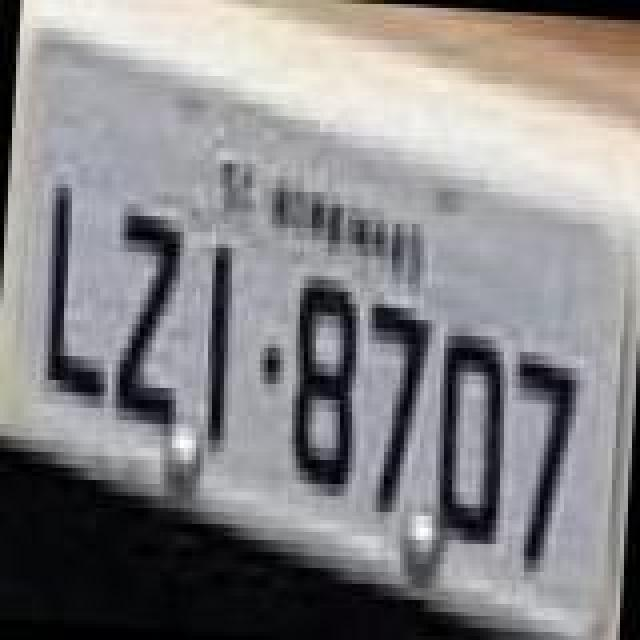1: (194, 236, 238, 452)
7: (502, 342, 586, 578), (356, 300, 436, 516)
8: (282, 270, 366, 498)
L: (38, 178, 122, 414)
O: (428, 330, 516, 550)
Z: (108, 208, 196, 440)
